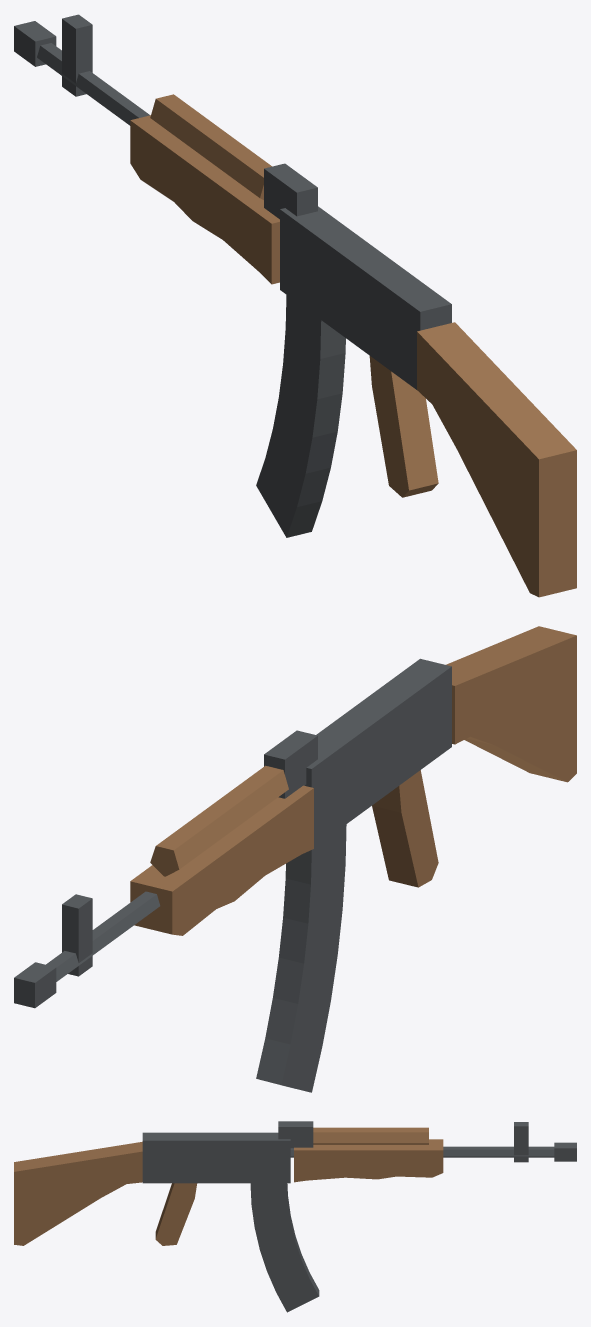
3 views of the same model, one above another, from view 1: azimuth 30°, elevation 25°; view 2: azimuth 150°, elevation 25°; view 3: azimuth 270°, elevation 25° (orthographic). The views are drawn at different scales.
Parts seen in each view (by area): view 1: body, magazine, muzzleDevice; view 2: body, magazine, muzzleDevice; view 3: body, magazine, muzzleDevice.
Boxes of the visible parts, box(x1,y1,x2,y2) form: body: box(37, 14, 576, 597); magazine: box(256, 295, 345, 537); muzzleDevice: box(14, 21, 56, 66); body: box(46, 626, 576, 981); magazine: box(256, 824, 346, 1092); muzzleDevice: box(14, 962, 56, 1008); body: box(14, 1121, 554, 1245); magazine: box(250, 1183, 319, 1312); muzzleDevice: box(554, 1142, 576, 1161).
Size of the model in its own units: 0.04 by 0.3174 by 0.875.
